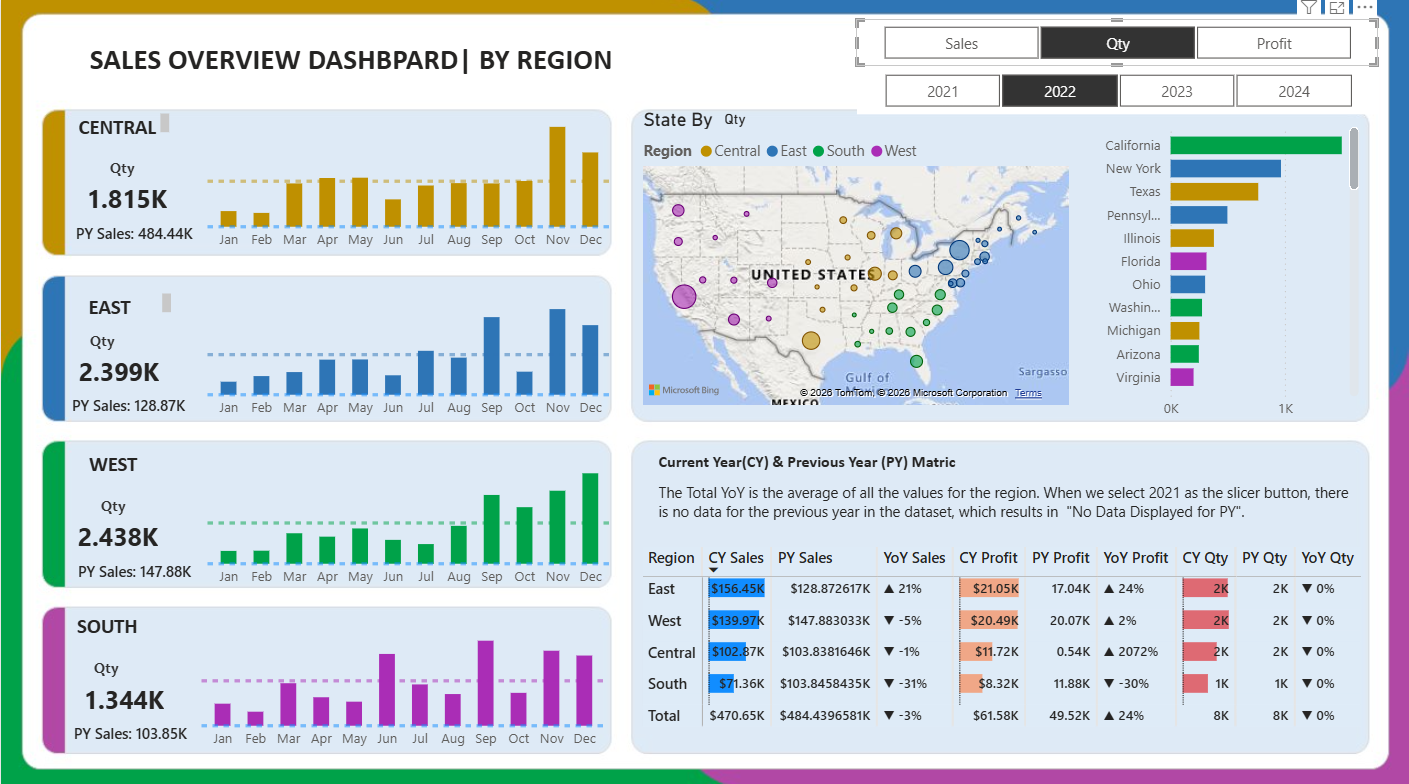

Layout of this report page (visuals, bound fields, positions):
{"tool":"powerbi","page":{"name":"Sales ODBR","canvas":[1280,720],"ordinal":0},"visuals":[{"type":"textbox","box":[61.2,101.1,96.7,29.3],"z":0},{"type":"slicer","fields":{"Values":["Calendar Table.Year"]},"box":[778.1,63.2,473.7,42.8],"z":1000},{"type":"slicer","fields":{"Values":["Select Matric.Select Matric"]},"box":[777.6,20.4,474.4,42.6],"z":2000},{"type":"cardVisual","fields":{"Data":["Sales Data.Total Sales"]},"box":[61.2,142.8,134.8,67.4],"z":3000},{"type":"card","fields":{"Values":["Sales Data.Dynamic Title"]},"box":[61.2,142.8,98.4,25.7],"z":4000},{"type":"card","fields":{"Values":["Sales Data.PY KPI Sales"]},"box":[54.1,203.9,134.8,26.6],"z":5000},{"type":"clusteredColumnChart","fields":{"Y":["Sales Data.Total Sales"],"Category":["Calendar Table.Month"]},"box":[182.7,85.1,377.7,153.4],"z":6000},{"type":"textbox","box":[54.1,35.5,529.4,65.6],"z":7000},{"type":"textbox","box":[44.3,264.2,115.3,29.3],"z":8000},{"type":"cardVisual","fields":{"Data":["Sales Data.Total Sales"]},"box":[54.1,299.7,134.8,67.4],"z":9000},{"type":"card","fields":{"Values":["Sales Data.Dynamic Title"]},"box":[42.6,299.7,98.4,25.7],"z":10000},{"type":"card","fields":{"Values":["Sales Data.PY KPI Sales"]},"box":[42.6,360,146.3,26.6],"z":11000},{"type":"clusteredColumnChart","fields":{"Y":["Sales Data.Total Sales"],"Category":["Calendar Table.Month"]},"box":[182.7,238.5,377.7,153.4],"z":12000},{"type":"textbox","box":[48.1,421.3,115.3,29.3],"z":13000},{"type":"cardVisual","fields":{"Data":["Sales Data.Total Sales"]},"box":[52.3,450.4,134.8,67.4],"z":14000},{"type":"card","fields":{"Values":["Sales Data.Dynamic Title"]},"box":[52.3,450.4,98.4,25.7],"z":15000},{"type":"card","fields":{"Values":["Sales Data.PY KPI Sales"]},"box":[47.9,510.7,146.3,26.6],"z":16000},{"type":"clusteredColumnChart","fields":{"Y":["Sales Data.Total Sales"],"Category":["Calendar Table.Month"]},"box":[182.7,391.9,377.7,153.4],"z":17000},{"type":"textbox","box":[54.1,407.9,96.7,42.6],"z":18000},{"type":"cardVisual","fields":{"Data":["Sales Data.Total Sales"]},"box":[58.4,598.2,135.2,67.1],"z":19000},{"type":"card","fields":{"Values":["Sales Data.Dynamic Title"]},"box":[46.8,597.6,98.4,25.7],"z":20000},{"type":"card","fields":{"Values":["Sales Data.PY KPI Sales"]},"box":[44.7,658.5,145.9,27.2],"z":21000},{"type":"clusteredColumnChart","fields":{"Y":["Sales Data.Total Sales"],"Category":["Calendar Table.Month"]},"box":[177.1,539.1,377.7,153.4],"z":22000},{"type":"textbox","box":[48.5,555,96.7,42.6],"z":23000},{"type":"map","title":"State By","fields":{"Size":["Sales Data.Total Sales"],"Category":["Sales Data.State/Province"],"Series":["Sales Data.Region"]},"box":[579,101.1,397.2,275.8],"z":24000},{"type":"card","fields":{"Values":["Sales Data.DY_map"]},"box":[583.4,69.2,167.6,86.9],"z":25000},{"type":"barChart","fields":{"Y":["Sales Data.Total Sales"],"Category":["Sales Data.State/Province"],"Series":["Sales Data.Region"]},"box":[986.9,105.5,251.8,286.4],"z":26000},{"type":"pivotTable","fields":{"Rows":["Sales Data.Region"],"Values":["Sales Data.CY Sales","Sales Data.PY Sales","Sales Data.YoY Sales","Sales Data.CY Profit","Sales Data.PY Profit","Sales Data.YoY Profit","Sales Data.CY Qty","Sales Data.PY Qty","Sales Data.YoY Qty"]},"box":[578.1,494.8,673.9,191.5],"z":27000},{"type":"textbox","box":[592.7,408.2,434.5,28.2],"z":30000},{"type":"textbox","box":[592.7,436.4,646.4,48.2],"z":30001}]}

Visuals, with their boxes in screenshot pixels (x1, y1, x2, y2), scaled from the page's 1280x720 canvas onto the 1409x784 screenshot:
textbox: left=67, top=110, right=174, bottom=142
slicer - Calendar Table.Year: left=857, top=69, right=1378, bottom=115
slicer - Select Matric.Select Matric: left=856, top=22, right=1378, bottom=69
cardVisual - Sales Data.Total Sales: left=67, top=155, right=216, bottom=229
card - Sales Data.Dynamic Title: left=67, top=155, right=176, bottom=183
card - Sales Data.PY KPI Sales: left=60, top=222, right=208, bottom=251
clusteredColumnChart - Sales Data.Total Sales x Calendar Table.Month: left=201, top=93, right=617, bottom=260
textbox: left=60, top=39, right=642, bottom=110
textbox: left=49, top=288, right=176, bottom=320
cardVisual - Sales Data.Total Sales: left=60, top=326, right=208, bottom=400
card - Sales Data.Dynamic Title: left=47, top=326, right=155, bottom=354
card - Sales Data.PY KPI Sales: left=47, top=392, right=208, bottom=421
clusteredColumnChart - Sales Data.Total Sales x Calendar Table.Month: left=201, top=260, right=617, bottom=427
textbox: left=53, top=459, right=180, bottom=491
cardVisual - Sales Data.Total Sales: left=58, top=490, right=206, bottom=564
card - Sales Data.Dynamic Title: left=58, top=490, right=166, bottom=518
card - Sales Data.PY KPI Sales: left=53, top=556, right=214, bottom=585
clusteredColumnChart - Sales Data.Total Sales x Calendar Table.Month: left=201, top=427, right=617, bottom=594
textbox: left=60, top=444, right=166, bottom=491
cardVisual - Sales Data.Total Sales: left=64, top=651, right=213, bottom=724
card - Sales Data.Dynamic Title: left=52, top=651, right=160, bottom=679
card - Sales Data.PY KPI Sales: left=49, top=717, right=210, bottom=747
clusteredColumnChart - Sales Data.Total Sales x Calendar Table.Month: left=195, top=587, right=611, bottom=754
textbox: left=53, top=604, right=160, bottom=651
"State By" map: left=637, top=110, right=1075, bottom=410
card - Sales Data.DY_map: left=642, top=75, right=827, bottom=170
barChart - Sales Data.Total Sales x Sales Data.State/Province: left=1086, top=115, right=1364, bottom=427
pivotTable - Sales Data.Region x Sales Data.CY Sales: left=636, top=539, right=1378, bottom=747
textbox: left=652, top=444, right=1131, bottom=475
textbox: left=652, top=475, right=1364, bottom=528
